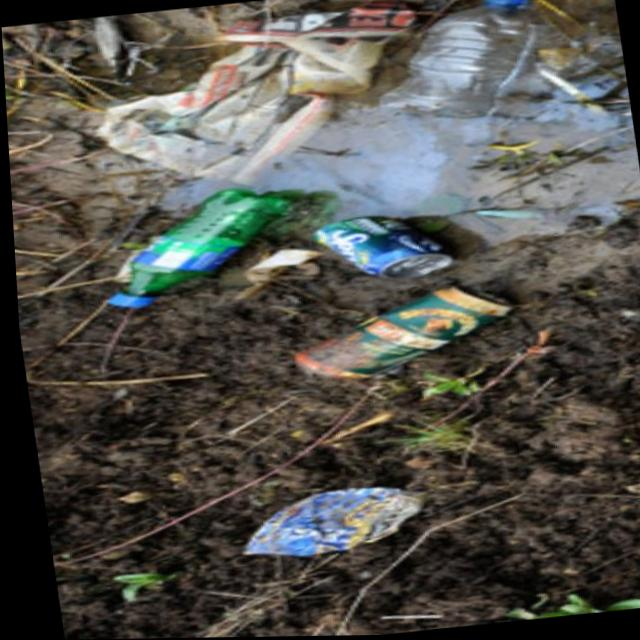clothes: (259, 279, 536, 412), (240, 451, 412, 574), (300, 200, 478, 292)
leaf: (383, 0, 547, 149), (90, 180, 275, 312)
metal: (110, 0, 377, 187)
